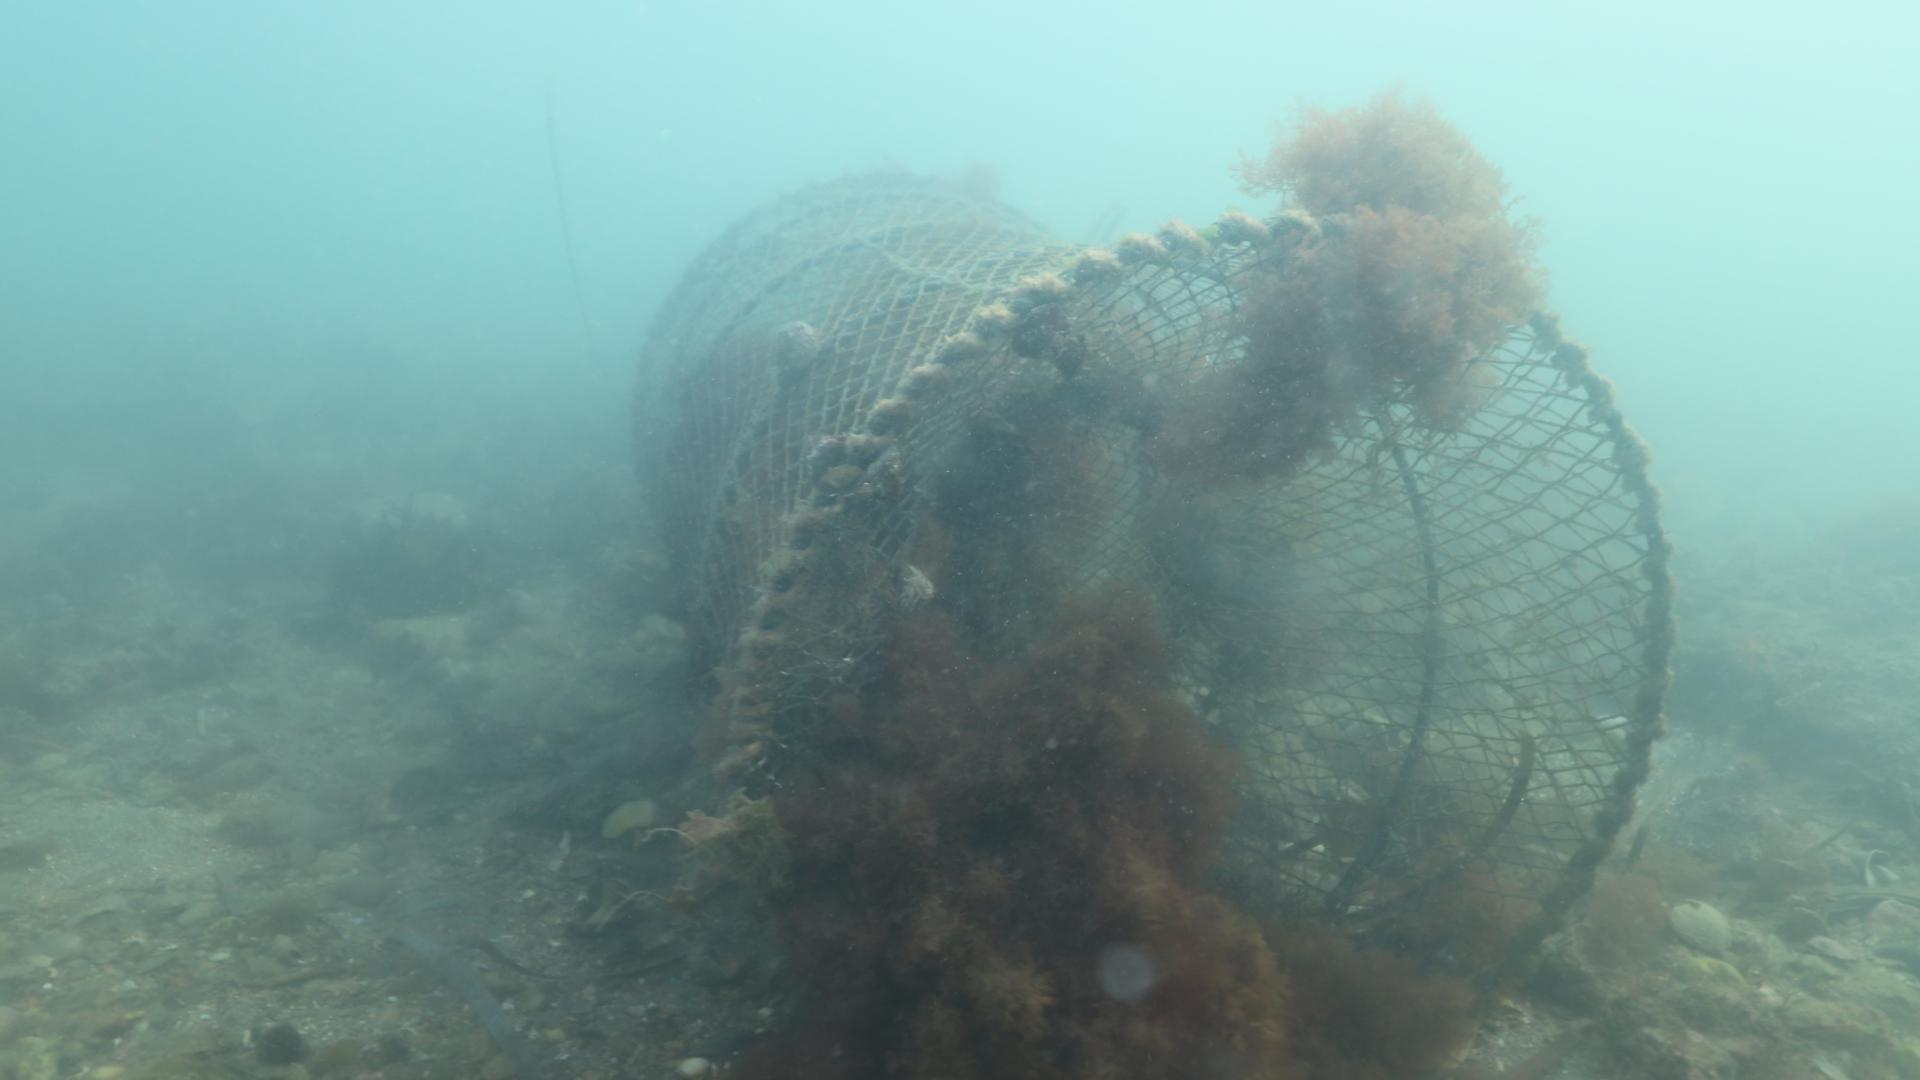spring fish trap: (625, 156, 1673, 1080)
